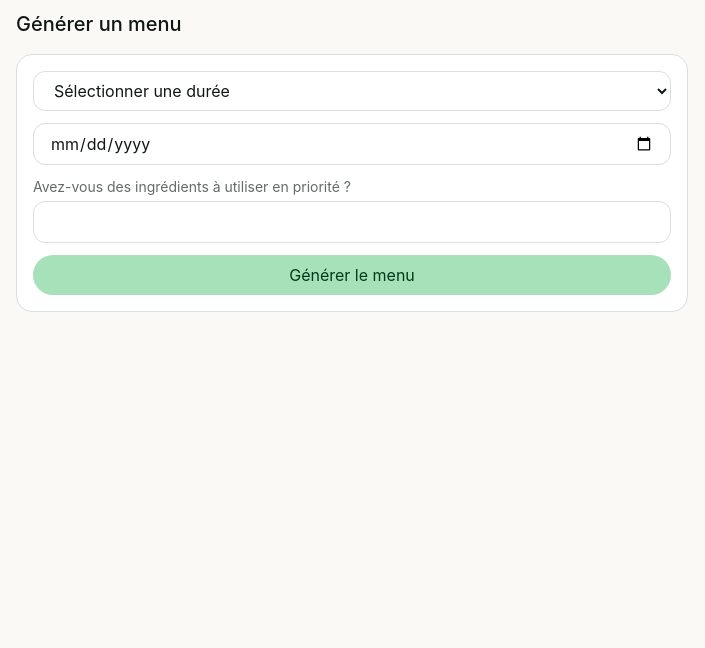
Test case: modifie le menu via l'IA
Select "Pour une journée" in the dropdown at (352, 91), box [33, 71, 671, 111]
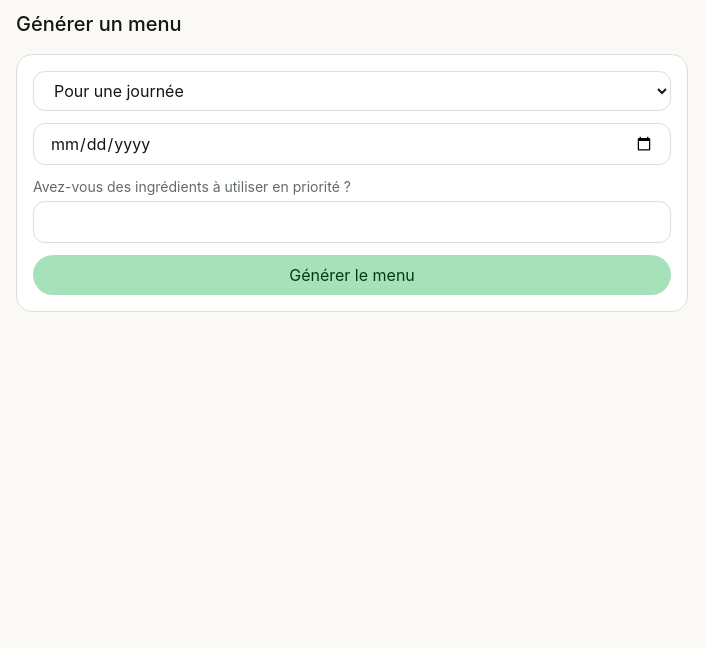
Click the button "Générer le menu" at (352, 275), box [33, 255, 671, 295]
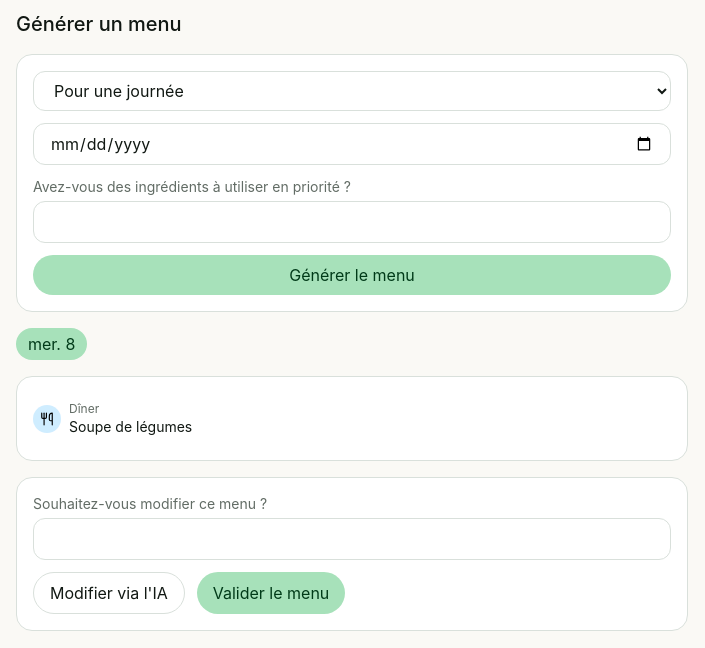
Expected: the text "Soupe de légumes" is shown, [69, 417, 192, 436]
Type "Moins salé" into the field below "Souhaitez-vous modifier ce menu ?" at (352, 539), box [33, 518, 671, 560]
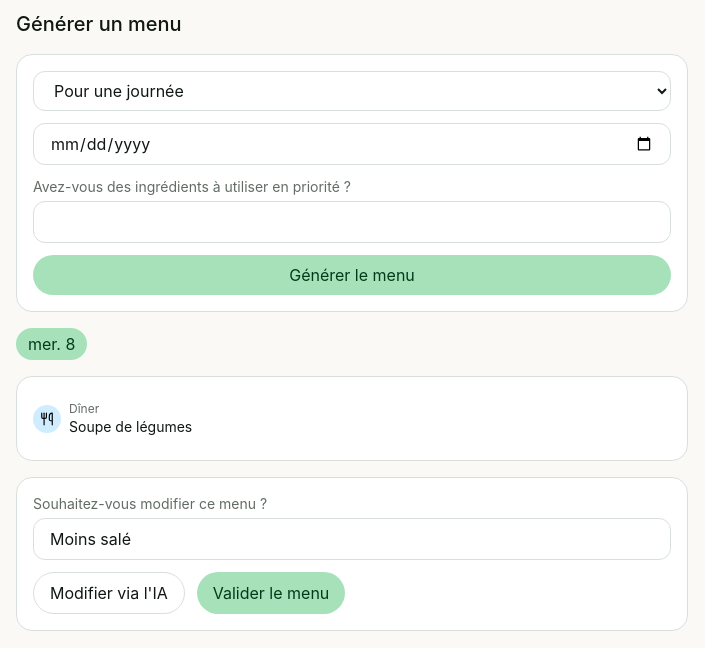
Click the button "Modifier via l'IA" at (109, 593), box [33, 572, 185, 614]
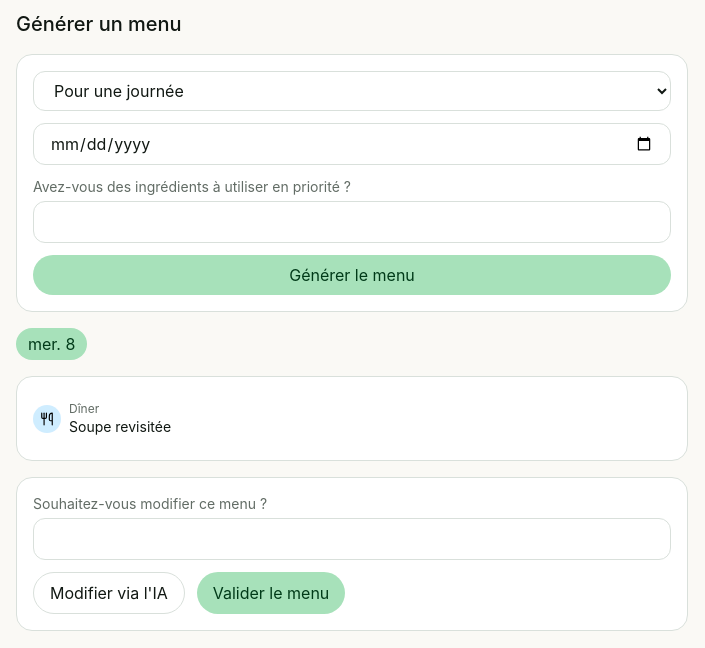
Expected: the text "Soupe revisitée" is shown, [69, 417, 171, 436]
